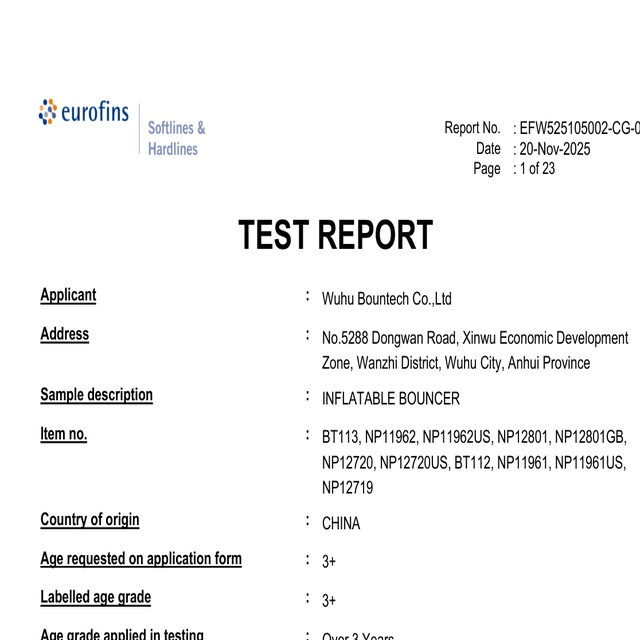eurofins: (33, 92, 133, 137)
